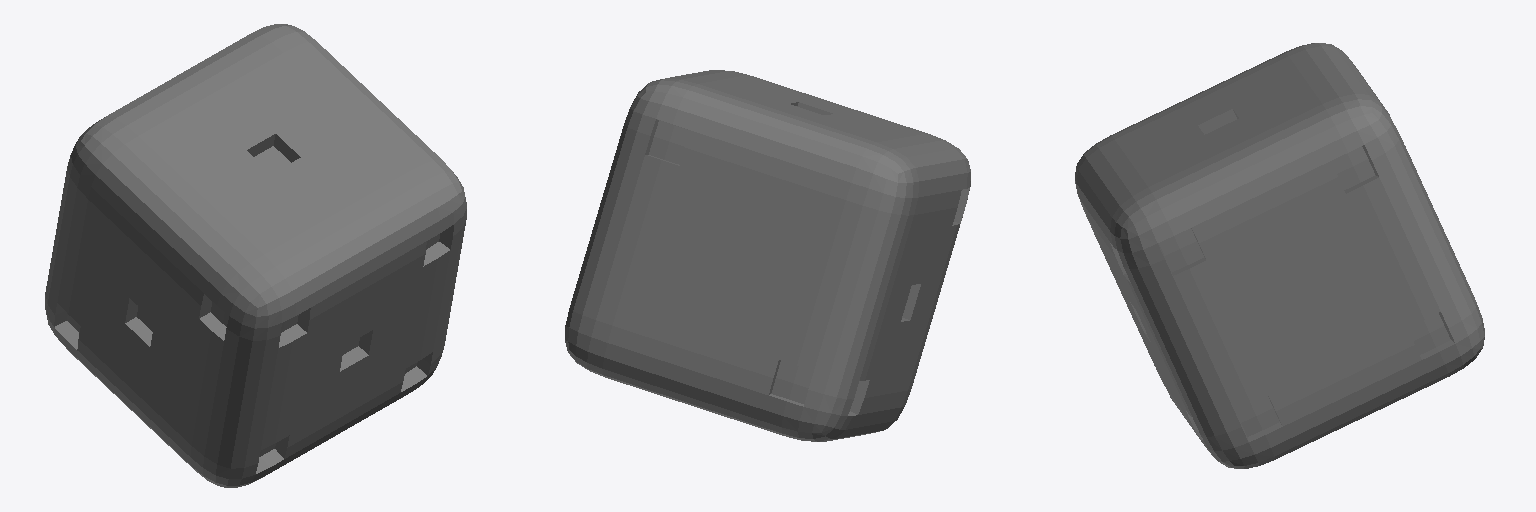
File: die.obj
3 renders of one model, left to right at view 1: azimuth 30°, elevation 25°; view 2: azimuth 150°, elevation 25°; view 3: azimuth 270°, elevation 25°, orthographic.
Visible parts, largest first — view 1: dice, dice_numbrs; view 2: dice, dice_numbrs; view 3: dice, dice_numbrs.
Boxes of the visible parts, x1,y1,x2,y2 form: dice: [45, 24, 466, 487]; dice_numbrs: [67, 146, 439, 456]; dice: [565, 70, 970, 441]; dice_numbrs: [649, 120, 813, 403]; dice: [1075, 43, 1484, 468]; dice_numbrs: [1159, 146, 1450, 436].
Bounding box in the file's own units: 35.65 × 39.3 × 39.61.